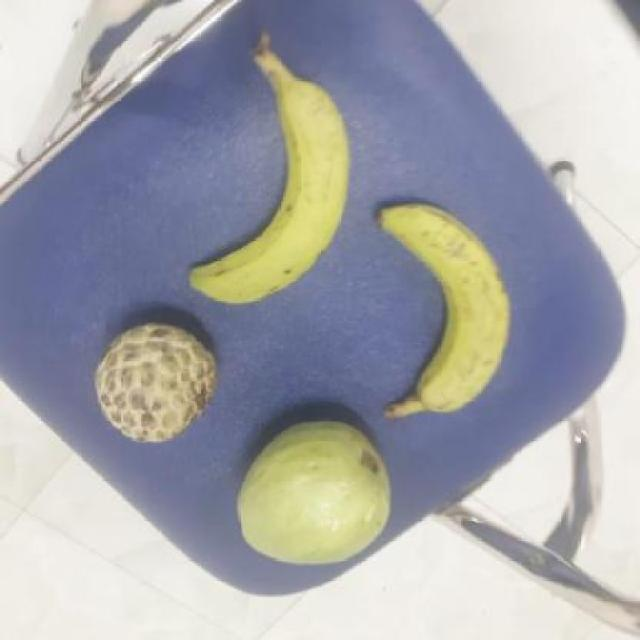banana: (184, 70, 348, 302), (374, 205, 511, 421)
guava: (235, 415, 392, 571)
sugar apple: (89, 323, 214, 445)
